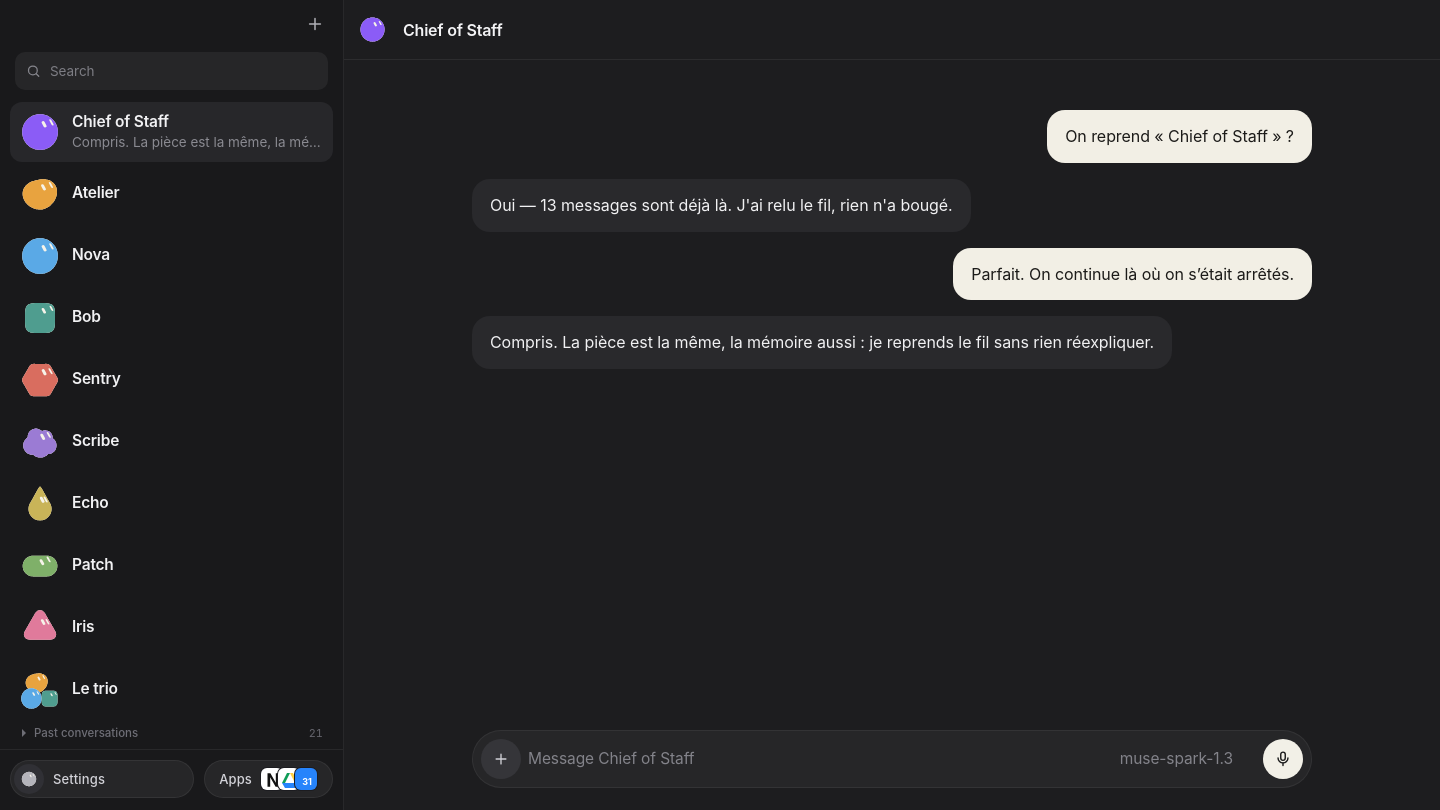
the window with a host that is not there › has a history of conversations nobody opened here
The width and height of the screenshot is (1440, 810).
What coordinates should you click on to do the following:
click the button "Past conversations 21"
I would click on:
 (86, 733)
Its box is [10,719,333,747].
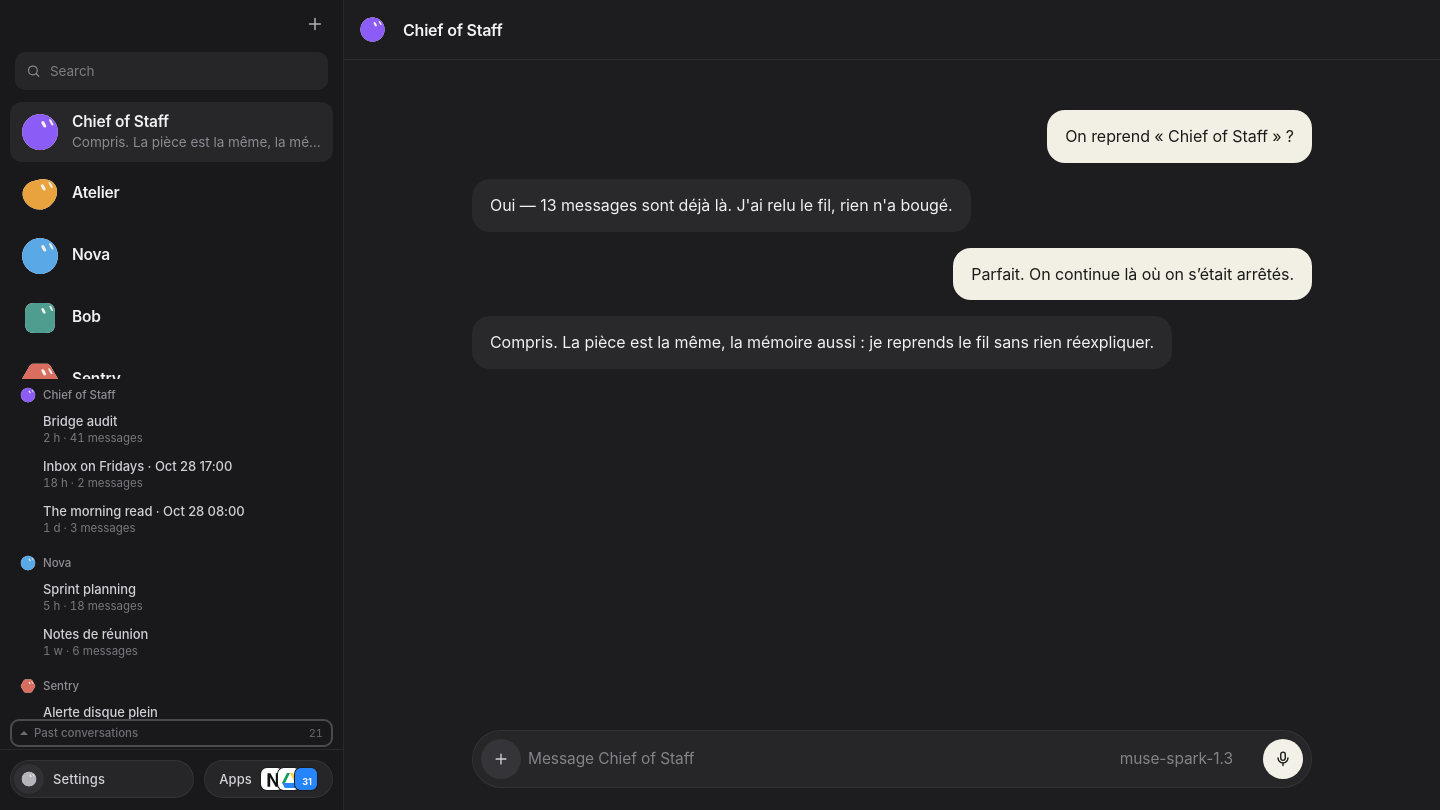
Result: the text "Bridge audit" is shown at [43,413,117,429]
Result: the text "Sprint planning" is shown at [43,581,136,597]
